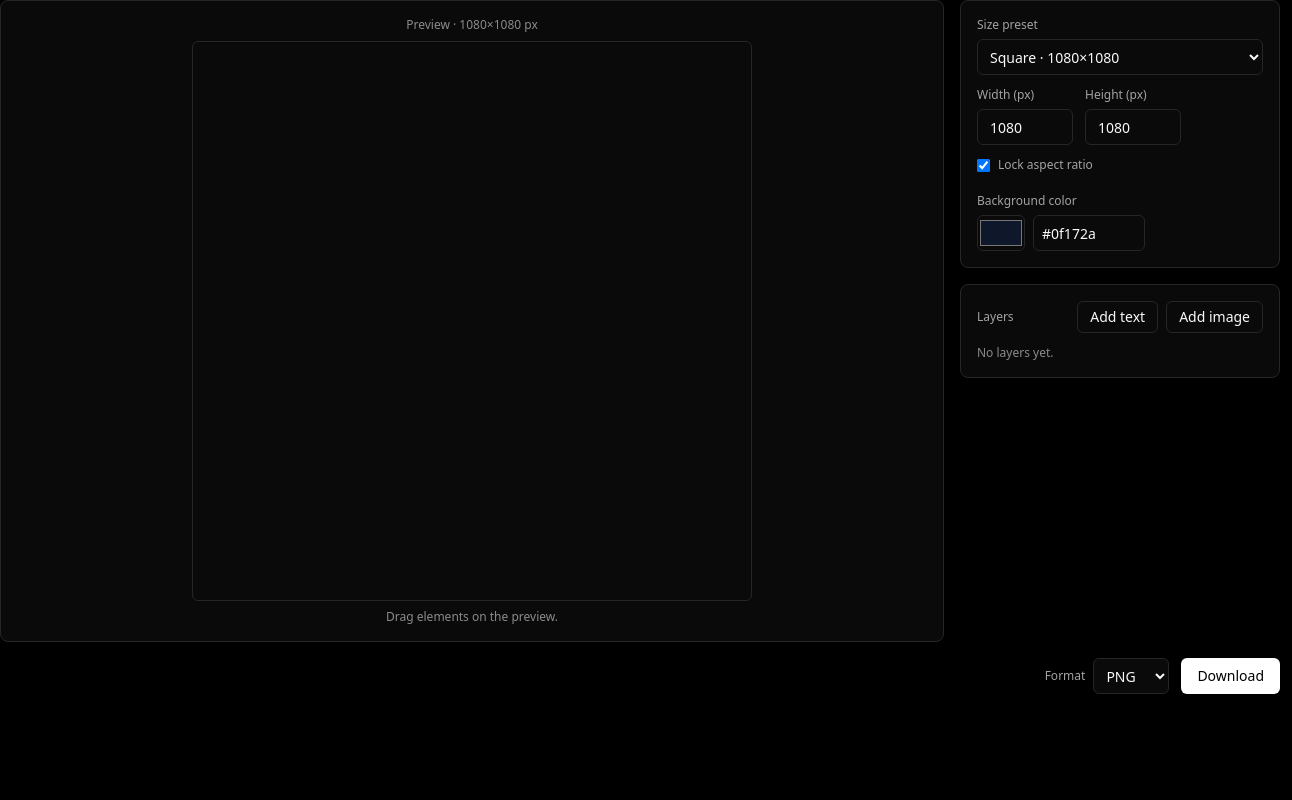
BannerMakerTool › removes a layer
Click the button "Add text" at [1118, 317], box [1077,301,1158,333]
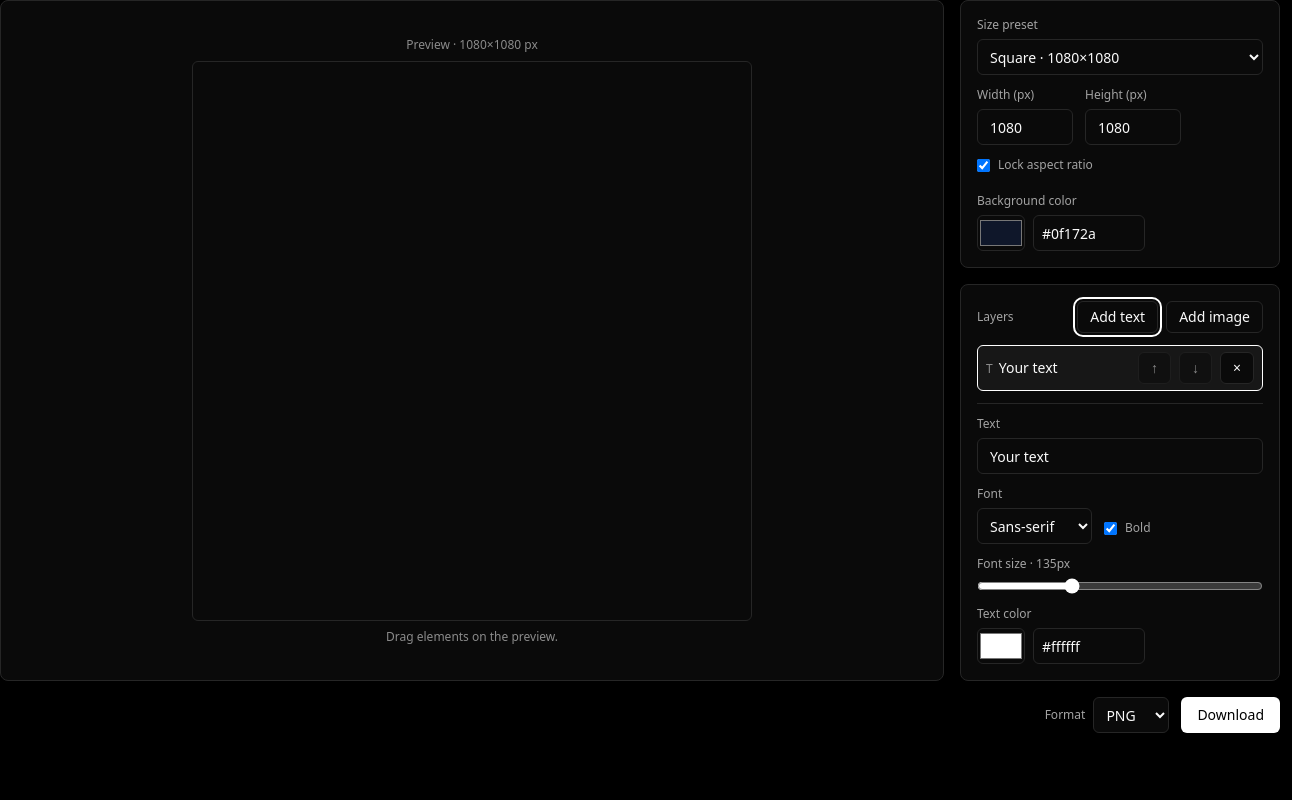
Click the button named "Remove layer" at [1237, 368], box [1220,352,1254,384]
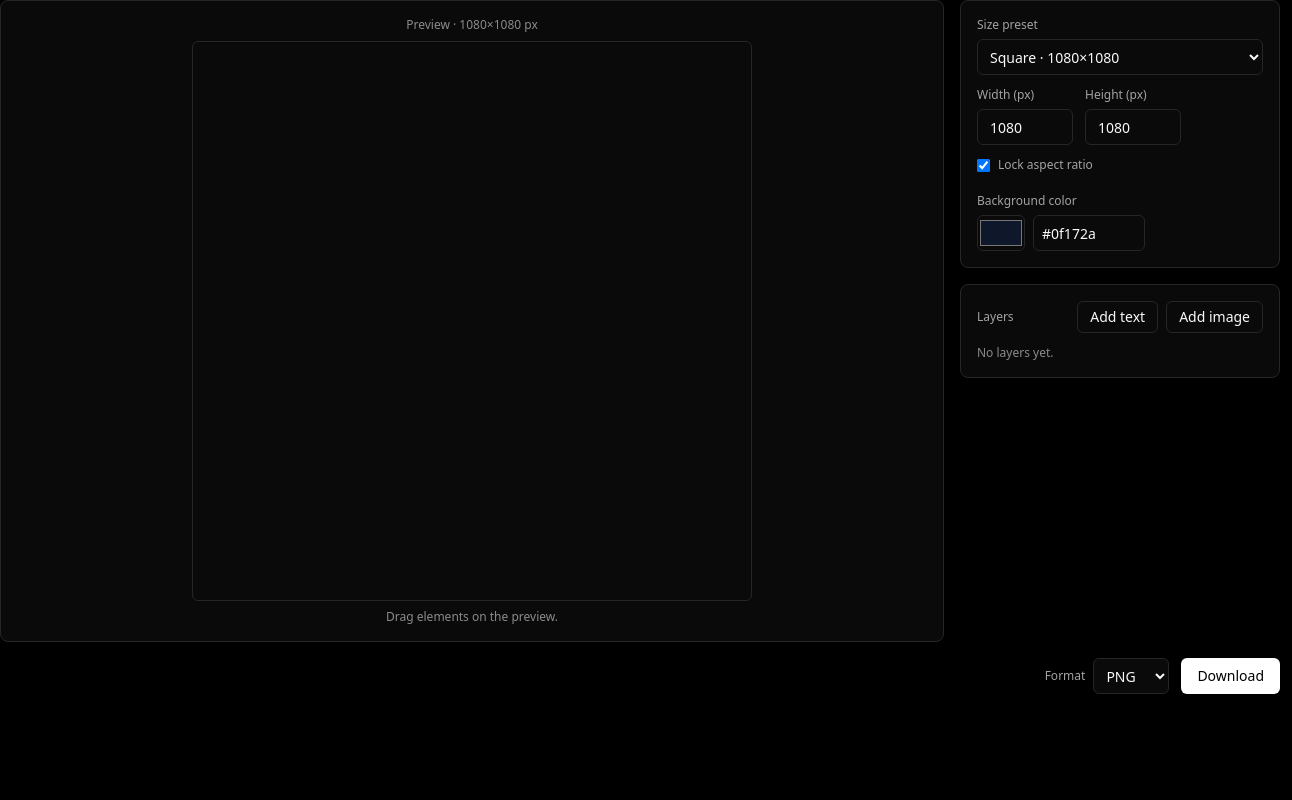
Check: the text "No layers yet." is shown, box [977,344,1054,361]
